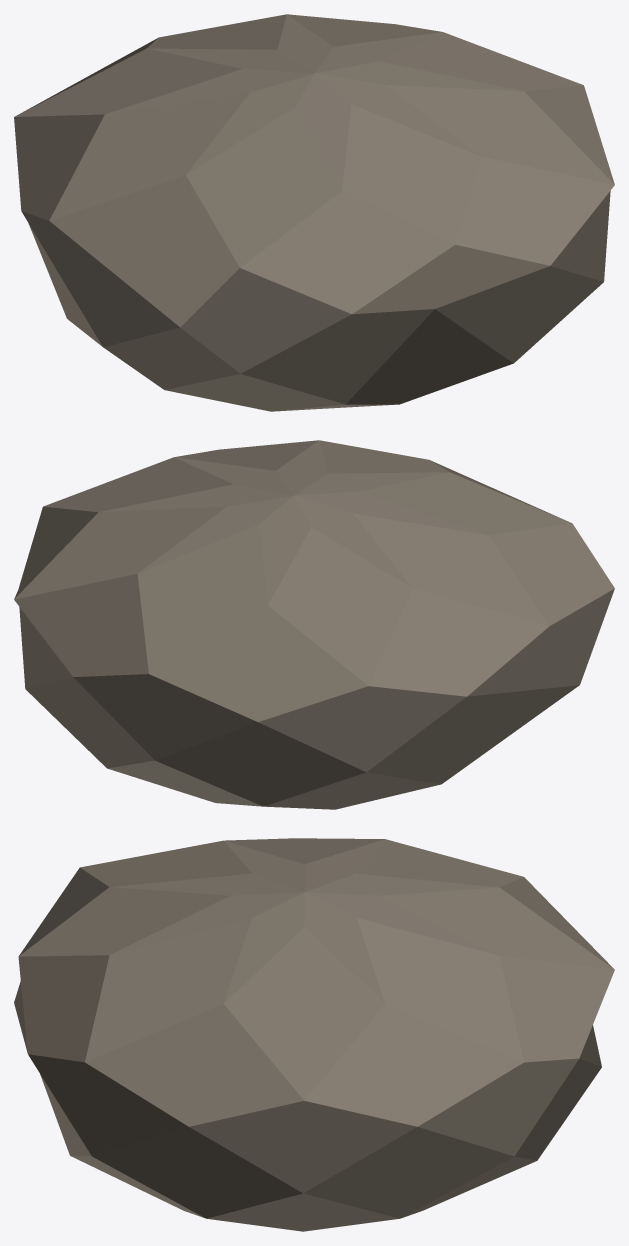
File: rock 2.fbx
3 renders of one model, top to bottom at view 1: azimuth 30°, elevation 25°; view 2: azimuth 150°, elevation 25°; view 3: azimuth 270°, elevation 25°, orthographic. The views are drawn at different scales.
Visible parts, largest first — view 1: rock small round; view 2: rock small round; view 3: rock small round.
Boxes of the visible parts, x1=… form: rock small round: x1=14, y1=14, x2=614, y2=411; rock small round: x1=14, y1=440, x2=614, y2=809; rock small round: x1=14, y1=838, x2=614, y2=1231.
Bounding box in the file's own units: 317 × 165 × 307.
